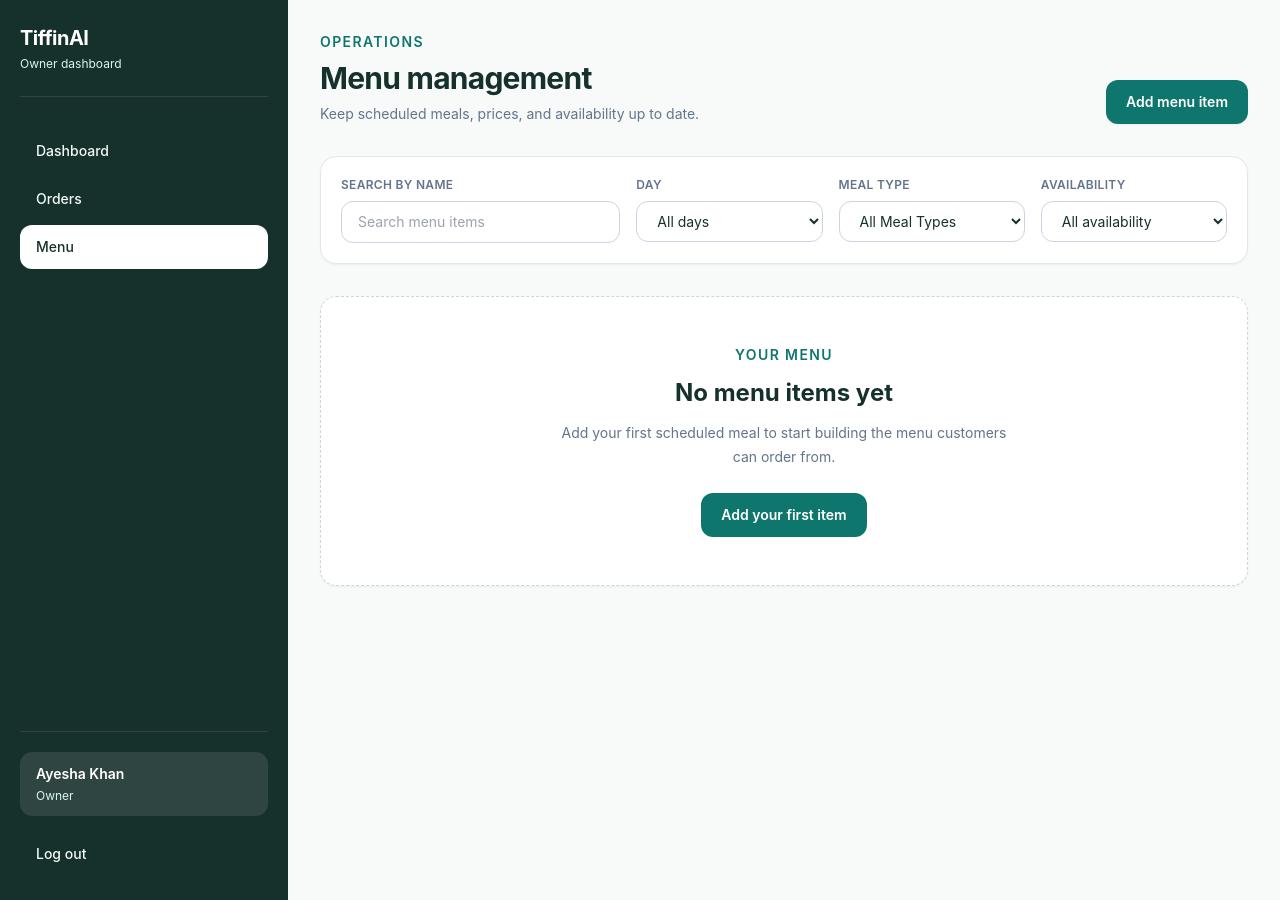
Menu management › creates a menu item through the POST endpoint
Click the button "Add your first item". click: {"x": 784, "y": 515}
box: [701,493,867,537]
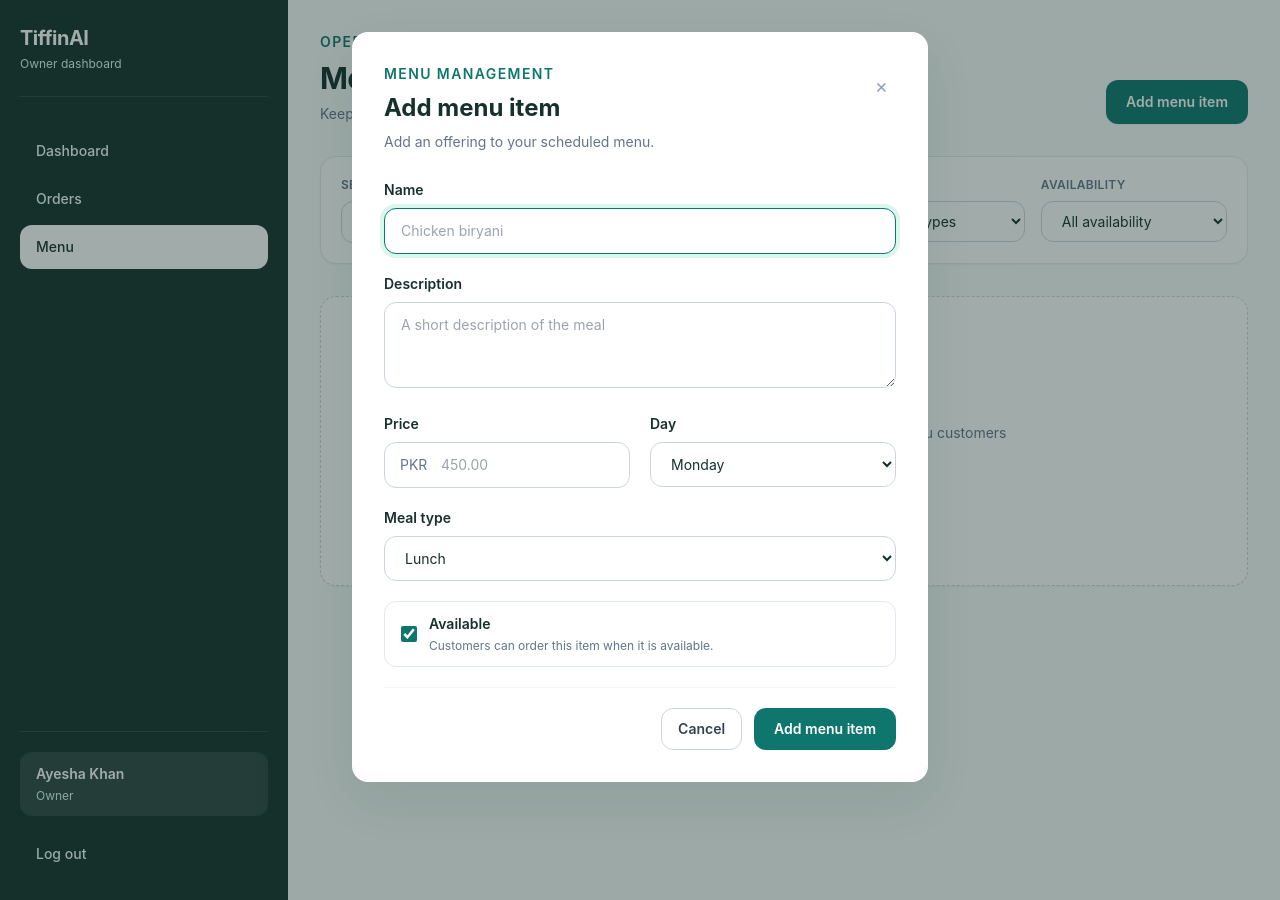
Type "Kheer" into the field labelled "Name". click: {"x": 640, "y": 231}
box: [384,208,896,254]
Type "Rice pudding" into the text box labelled "Description". click: {"x": 640, "y": 345}
box: [384,302,896,388]
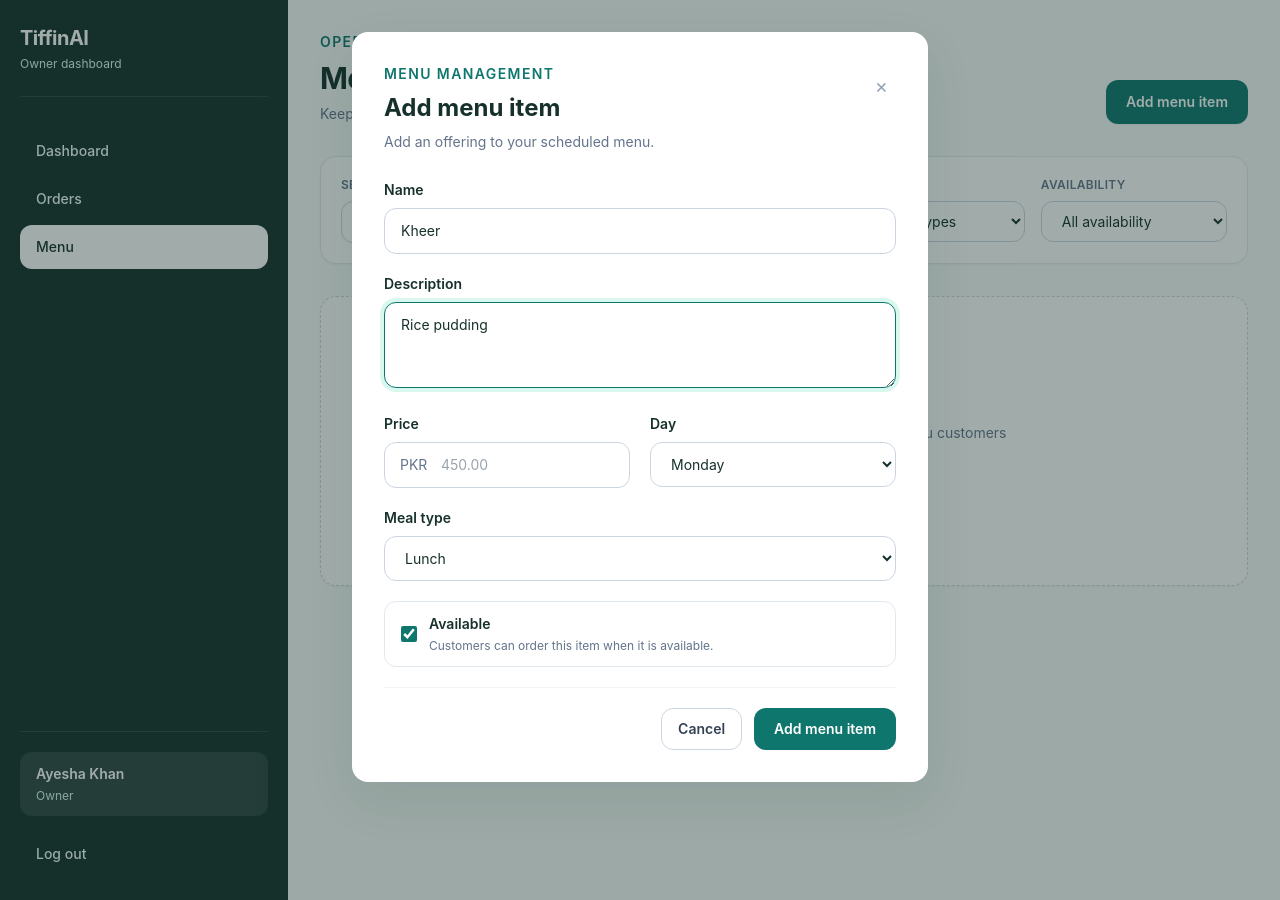
Type "200.00" into the field labelled "Price". click: {"x": 507, "y": 465}
box: [384,442,630,488]
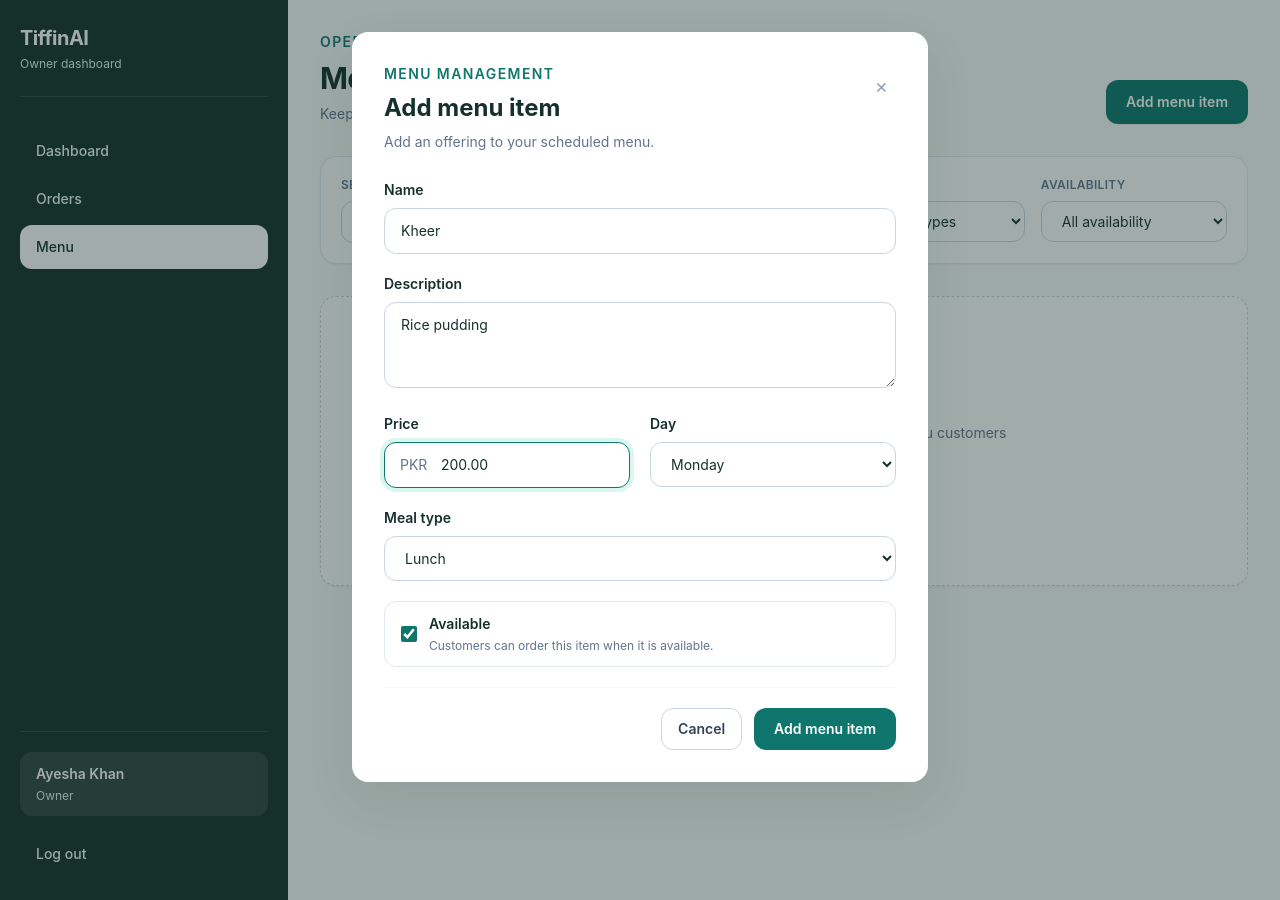
Select "Friday" in the dropdown labelled "Day". click: {"x": 773, "y": 464}
box: [650,442,896,487]
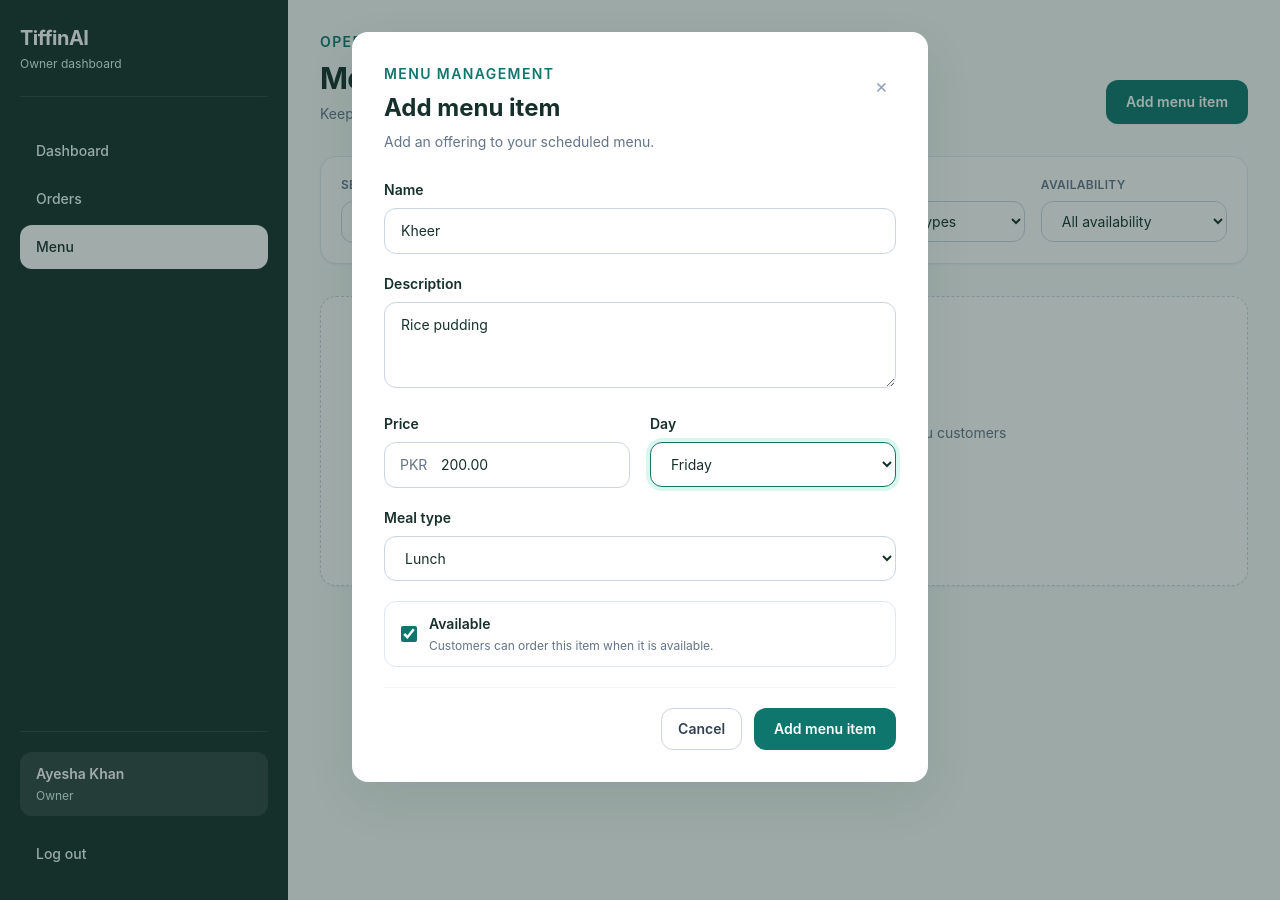
Select "dinner" in the dropdown labelled "Meal type". click: {"x": 640, "y": 558}
box: [384,536,896,581]
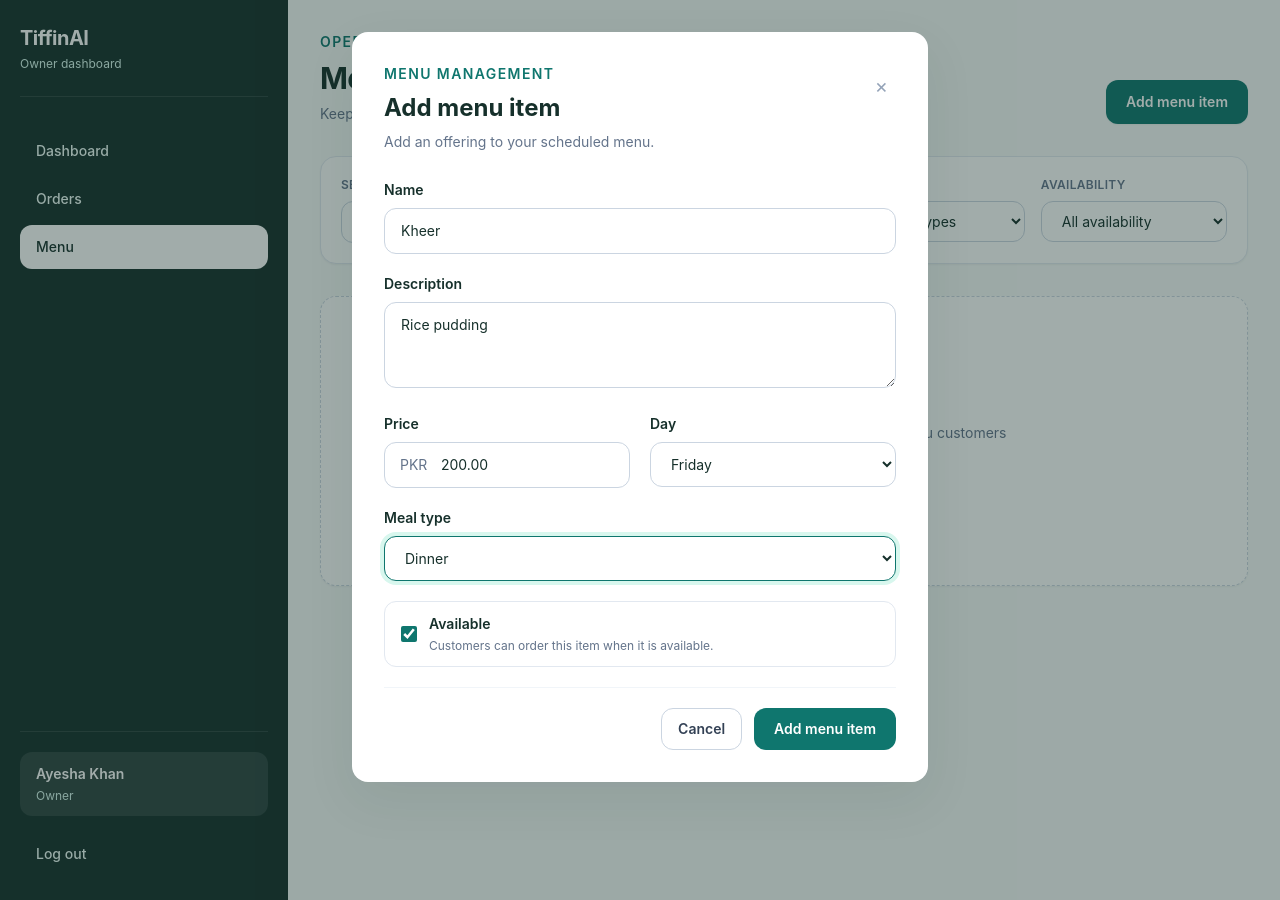
Click the button "Add menu item". click: {"x": 825, "y": 729}
box: [754,708,896,750]
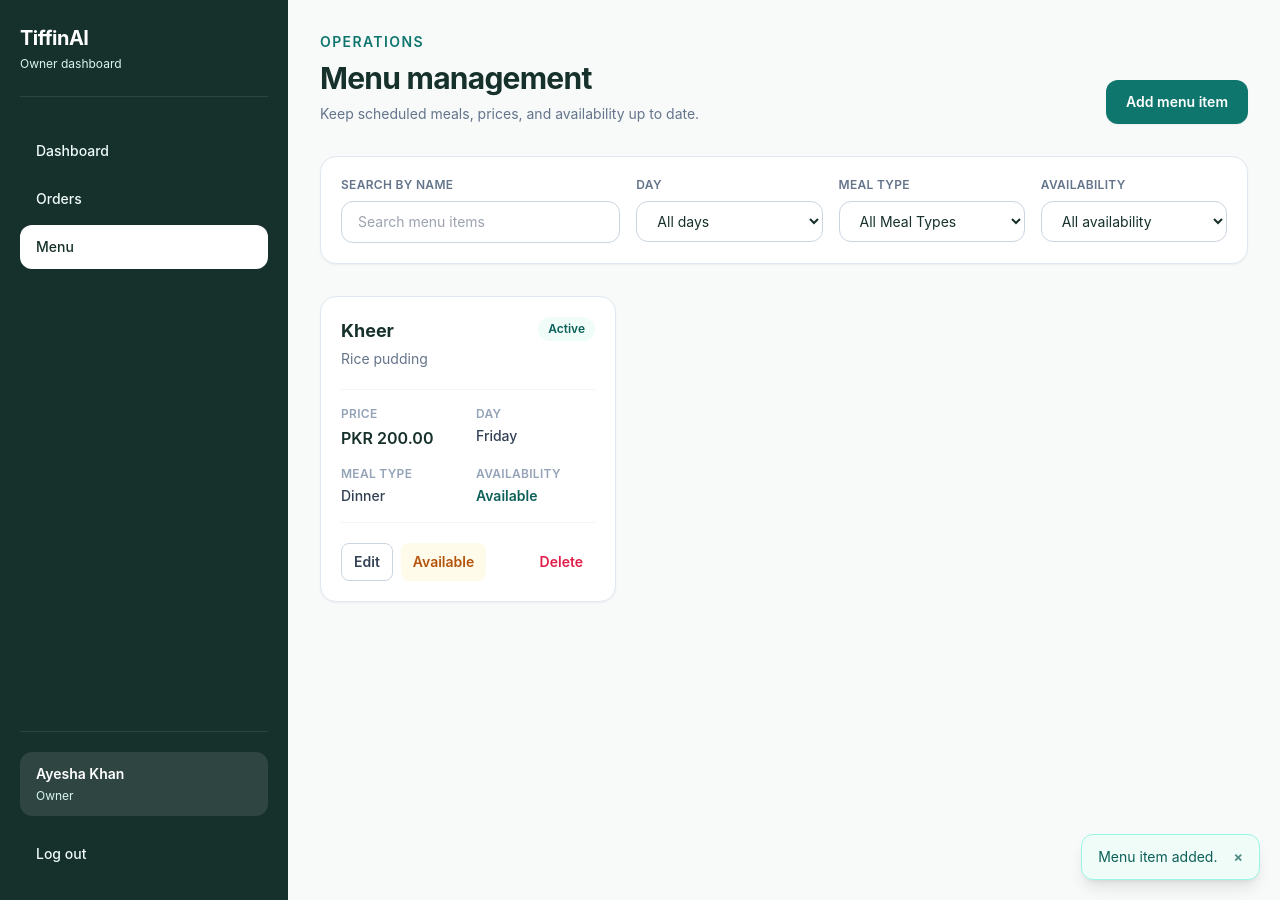
Check: the message shows "Menu item added", box [1098,848,1218,865]
Check: the heading "Kheer" is shown, box [341,320,394,341]
